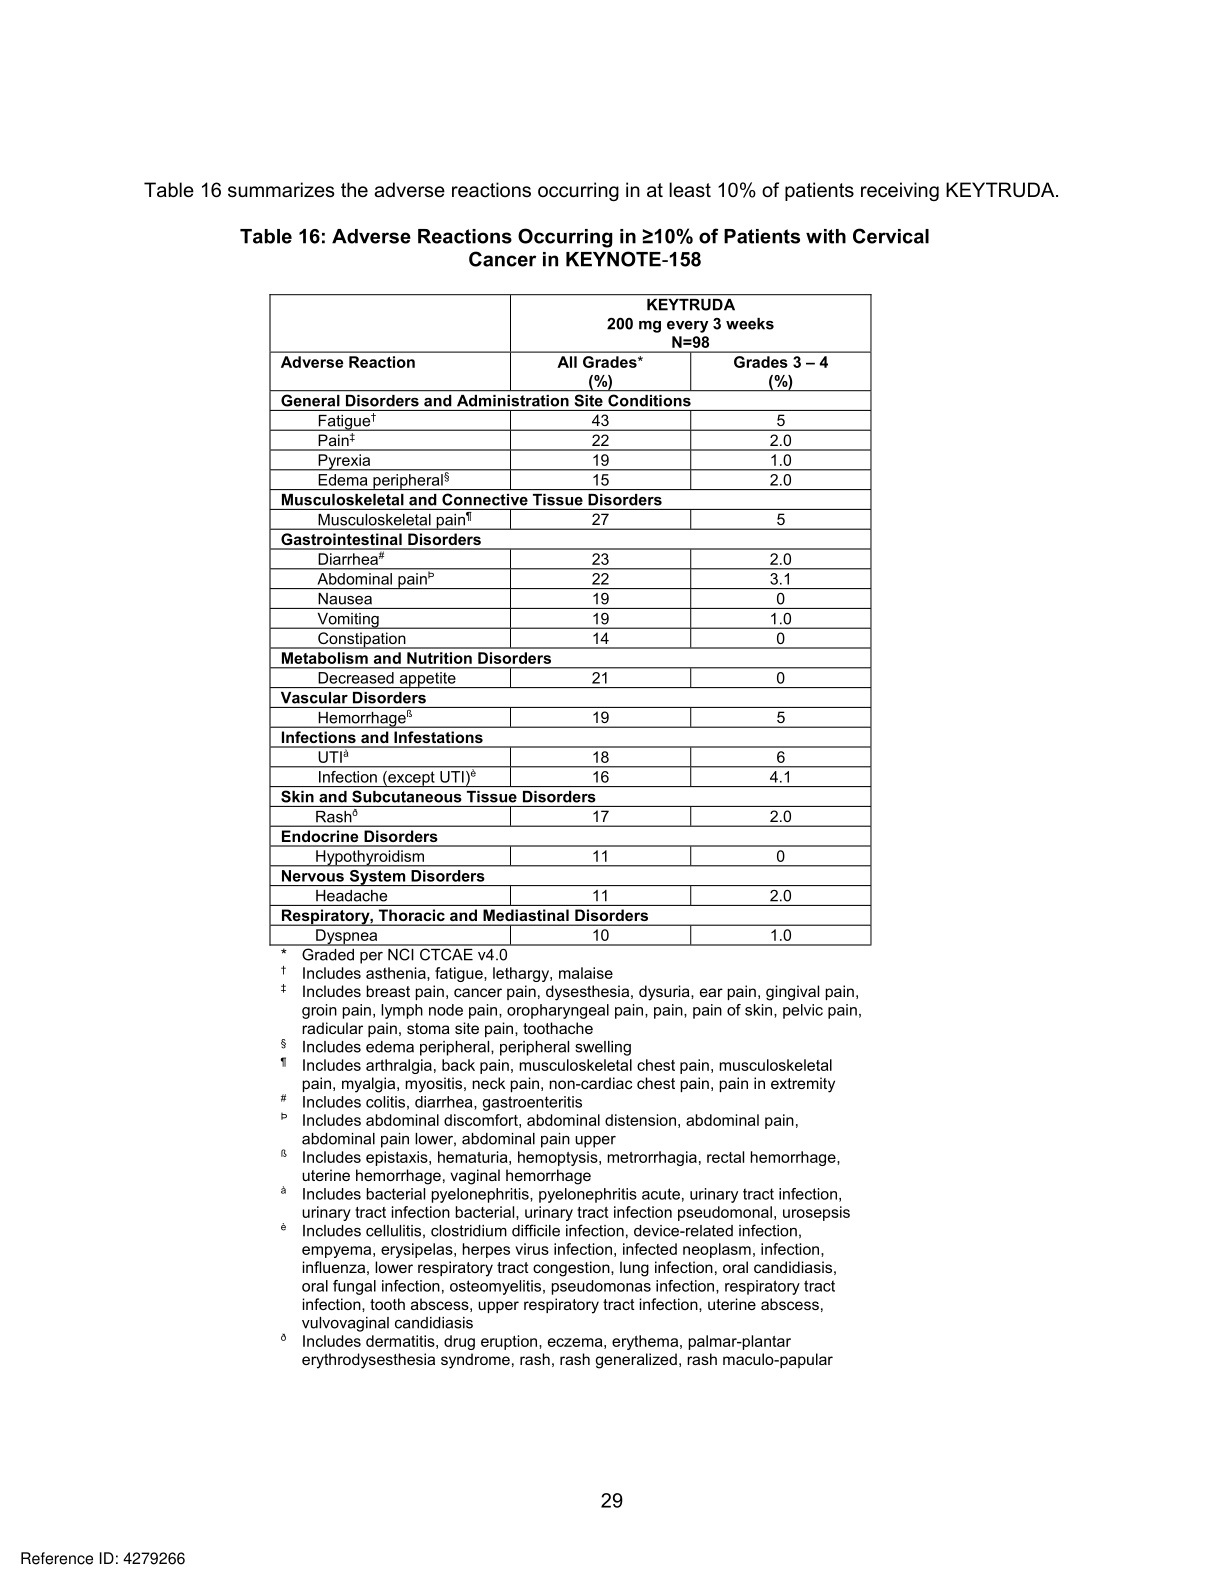merged_cells: (267, 292, 873, 948)
